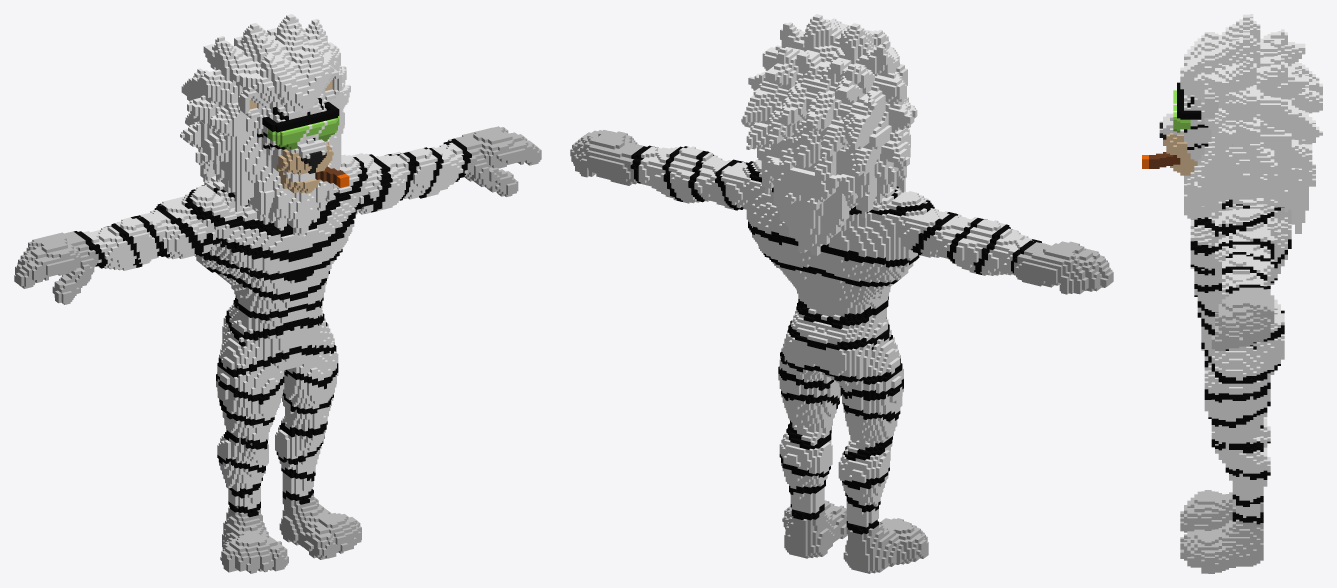
3 renders of one model, left to right at view 1: azimuth 30°, elevation 25°; view 2: azimuth 150°, elevation 25°; view 3: azimuth 270°, elevation 25°, orthographic. The views are drawn at different scales.
Parts seen in each view (by area): view 1: cigar; view 2: cigar; view 3: cigar.
Boxes of the visible parts, <box> form: cigar: <box>14,14,541,573</box>; cigar: <box>570,14,1113,573</box>; cigar: <box>1142,14,1322,573</box>.
Size of the model in its own units: 17.2 by 16.5 by 5.2.
4 materials, 4 textured.
